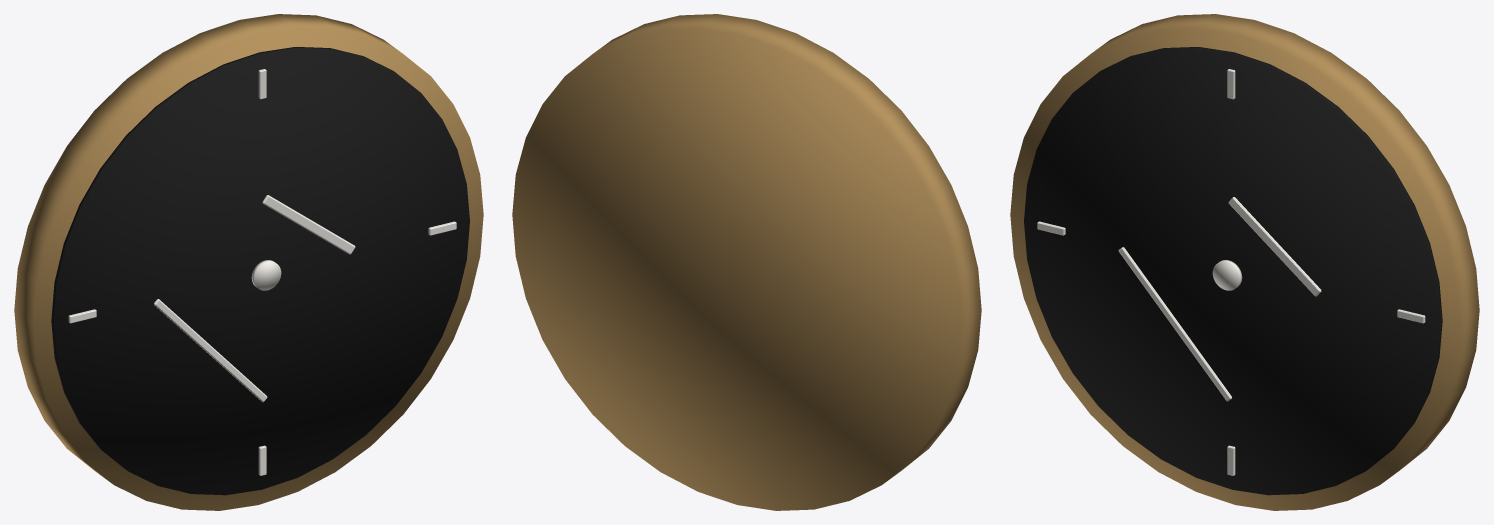
File: i_clock_1.glb
3 renders of one model, left to right at view 1: azimuth 30°, elevation 25°; view 2: azimuth 150°, elevation 25°; view 3: azimuth 330°, elevation 25°, orthographic.
Visible parts, largest first — view 1: o.001, o, o.007, o.006, o.008; view 2: o; view 3: o.001, o, o.007, o.006, o.008.
Boxes of the visible parts, x1,y1,x2,y2 form: o.001: (51, 47, 469, 495); o: (14, 14, 483, 510); o.007: (154, 299, 267, 402); o.006: (262, 195, 355, 254); o.008: (251, 260, 281, 290); o: (512, 14, 981, 510); o.001: (1024, 47, 1442, 495); o: (1010, 14, 1479, 510); o.007: (1118, 247, 1231, 401); o.006: (1228, 197, 1321, 296); o.008: (1212, 260, 1242, 290).
Size of the model in its own units: 0.4 by 0.4 by 0.044.
